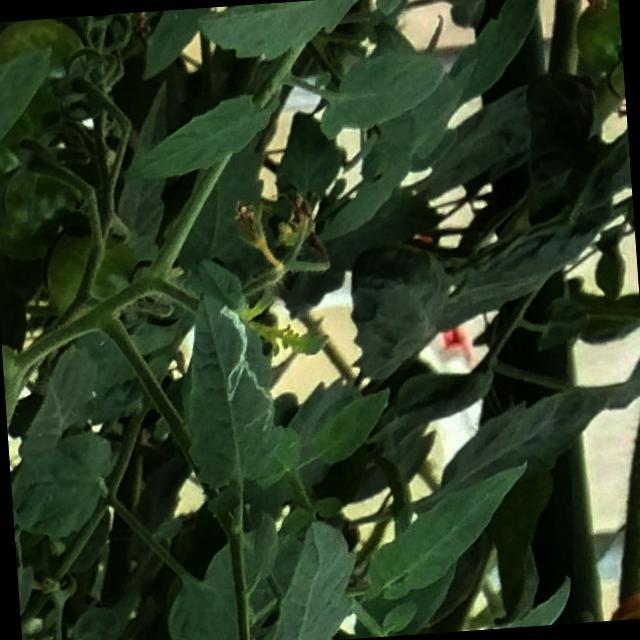Tomato healthy leaf: (353, 457, 543, 605), (113, 90, 275, 192), (312, 44, 452, 142)
Tomato target spot leaf: (168, 279, 286, 490)
